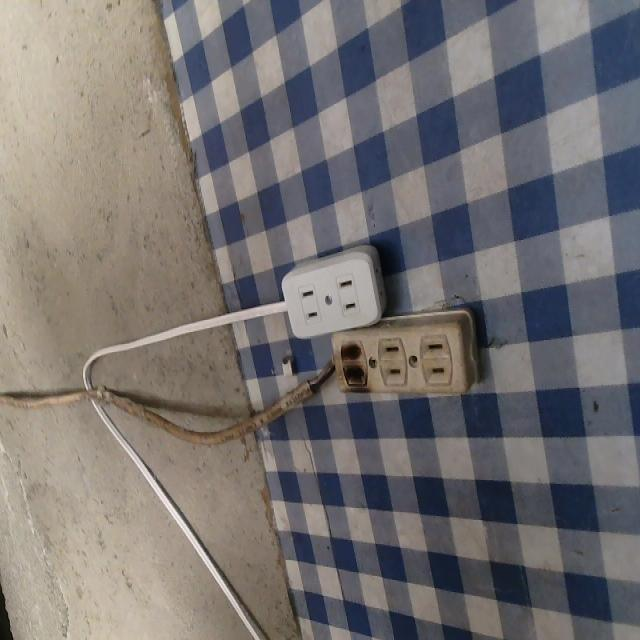-: (333, 334, 376, 398)
